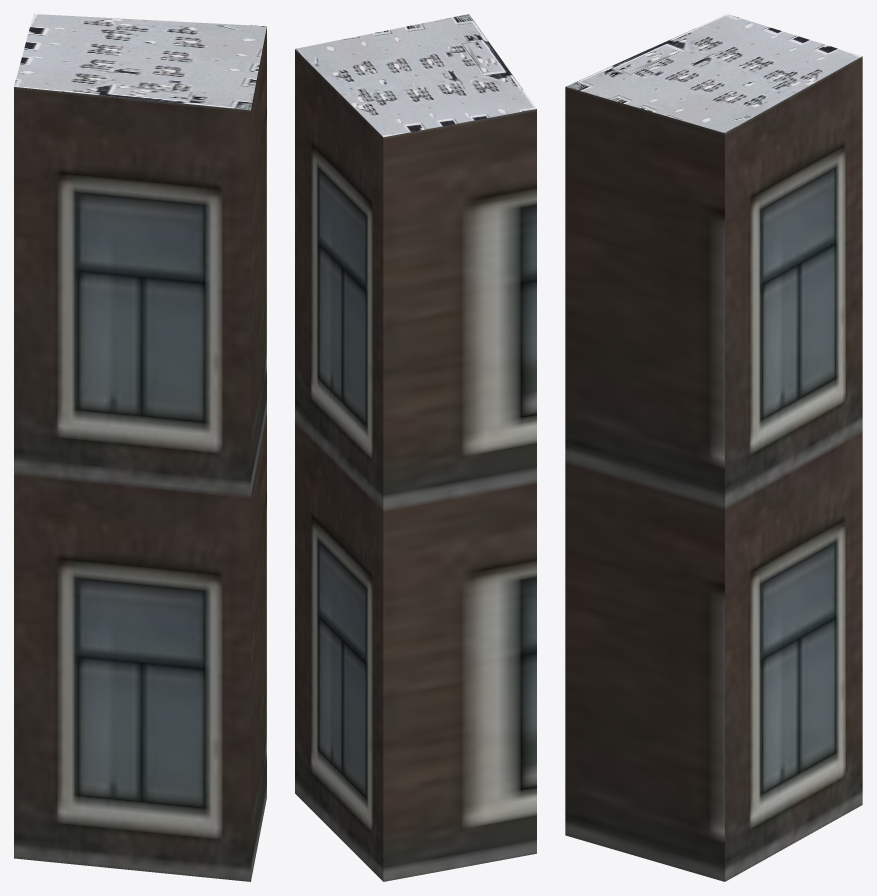
The model's file is ResTex__1896.fbx.
3 views of the same model, side by side, from view 1: azimuth 30°, elevation 25°; view 2: azimuth 150°, elevation 25°; view 3: azimuth 270°, elevation 25° (orthographic). The views are drawn at different scales.
Visible parts, largest first — view 1: CityEngineMaterial_16_m, CityEngineMaterial_15_m; view 2: CityEngineMaterial_16_m, CityEngineMaterial_15_m; view 3: CityEngineMaterial_16_m, CityEngineMaterial_15_m.
Boxes of the visible parts, x1,y1,x2,y2 form: CityEngineMaterial_16_m: (14,27,266,881); CityEngineMaterial_15_m: (14,14,266,110); CityEngineMaterial_16_m: (295,49,536,881); CityEngineMaterial_15_m: (295,14,536,137); CityEngineMaterial_16_m: (565,56,862,881); CityEngineMaterial_15_m: (566,14,861,132).
Size of the model in its own units: 2.05 by 6 by 2.16.
2 materials, 2 textured.
